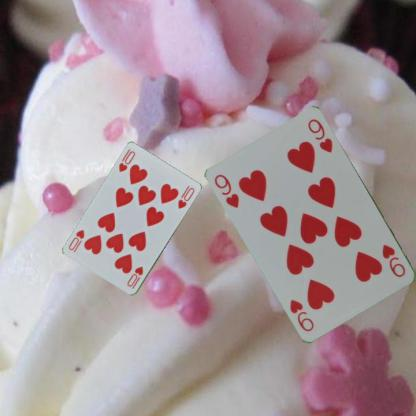10h: (124, 264, 145, 290), (116, 148, 136, 174)
9h: (212, 172, 241, 209), (380, 242, 407, 279)
